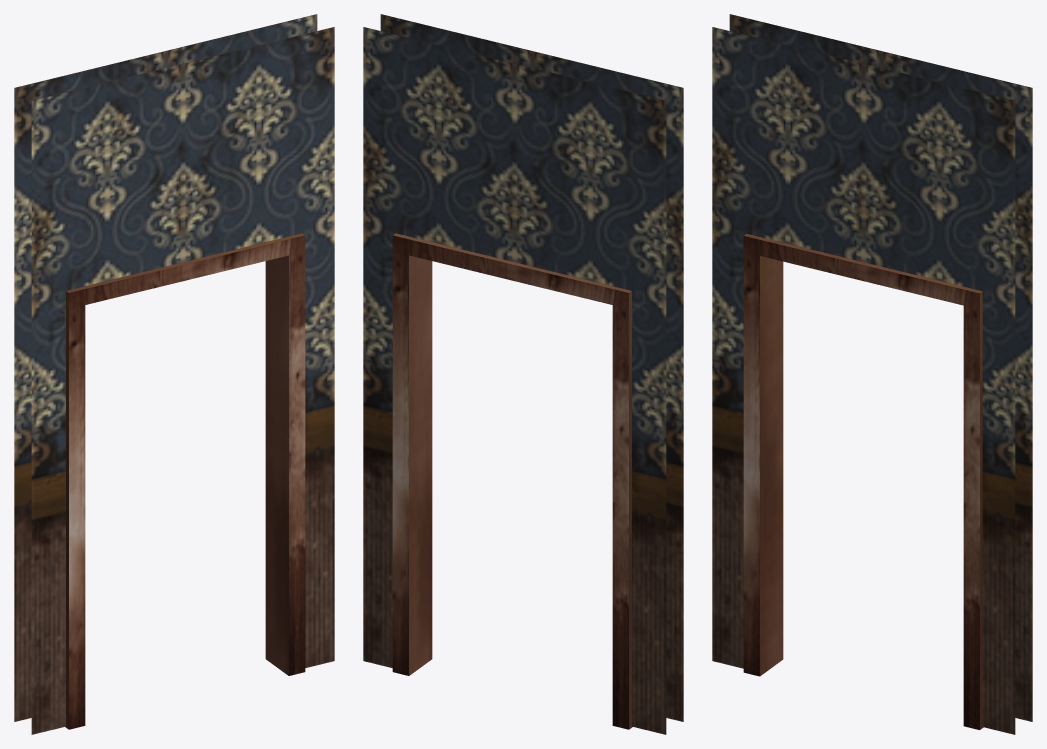
The model's file is wall_blue_doorway_2.obj.
3 views of the same model, side by side, from view 1: azimuth 30°, elevation 25°; view 2: azimuth 150°, elevation 25°; view 3: azimuth 330°, elevation 25° (orthographic).
Visible parts, largest first — view 1: Wall_Doorway_3x1.5, Doorframe.001, Wall_Doorway_3x1.001; view 2: Wall_Doorway_3x1.001, Doorframe.001, Wall_Doorway_3x1.5; view 3: Wall_Doorway_3x1.5, Doorframe.001, Wall_Doorway_3x1.001.
Part boxes in pixels (x1=…): Wall_Doorway_3x1.5: x1=31, y1=27, x2=334, y2=734; Doorframe.001: x1=65, y1=233, x2=305, y2=729; Wall_Doorway_3x1.001: x1=14, y1=14, x2=317, y2=721; Wall_Doorway_3x1.001: x1=363, y1=27, x2=666, y2=734; Doorframe.001: x1=392, y1=233, x2=632, y2=729; Wall_Doorway_3x1.5: x1=380, y1=14, x2=683, y2=721; Wall_Doorway_3x1.5: x1=712, y1=27, x2=1015, y2=734; Doorframe.001: x1=743, y1=233, x2=983, y2=729; Wall_Doorway_3x1.001: x1=729, y1=14, x2=1032, y2=721.
Bounding box in the file's own units: 1.5 × 3 × 0.2.
Materials: 3 (3 with a texture image).
